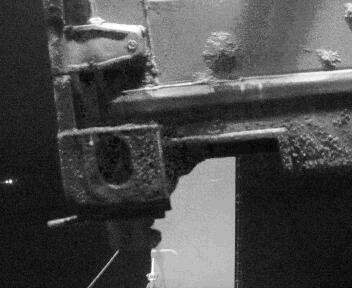twist_lock_1: (66, 190, 176, 265)
